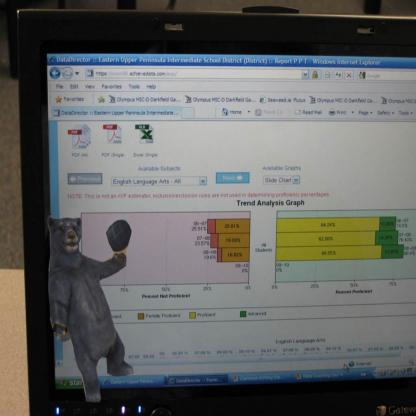board: (16, 7, 416, 416)
